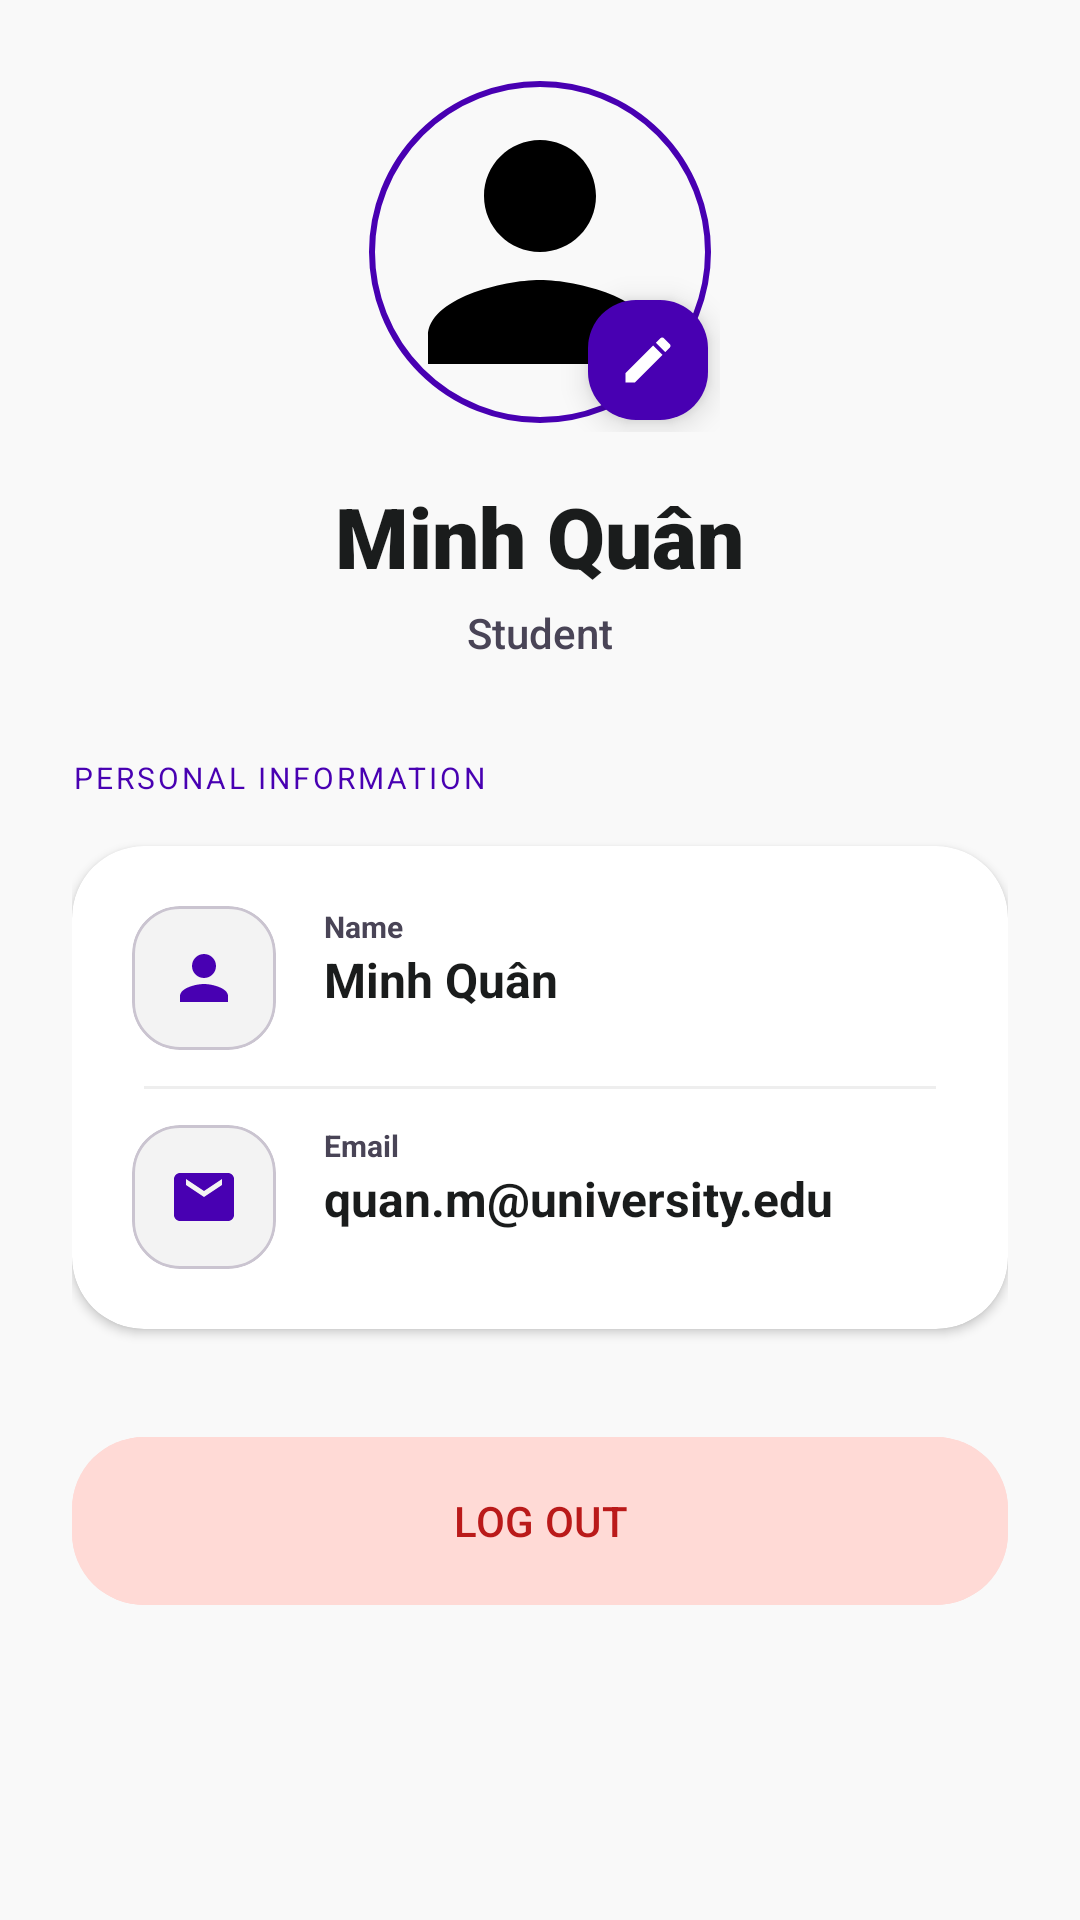

Icons on this 1080*1920 Android screen, each with the point to tap as (x=x, y=y):
edit: (x=642, y=355)
